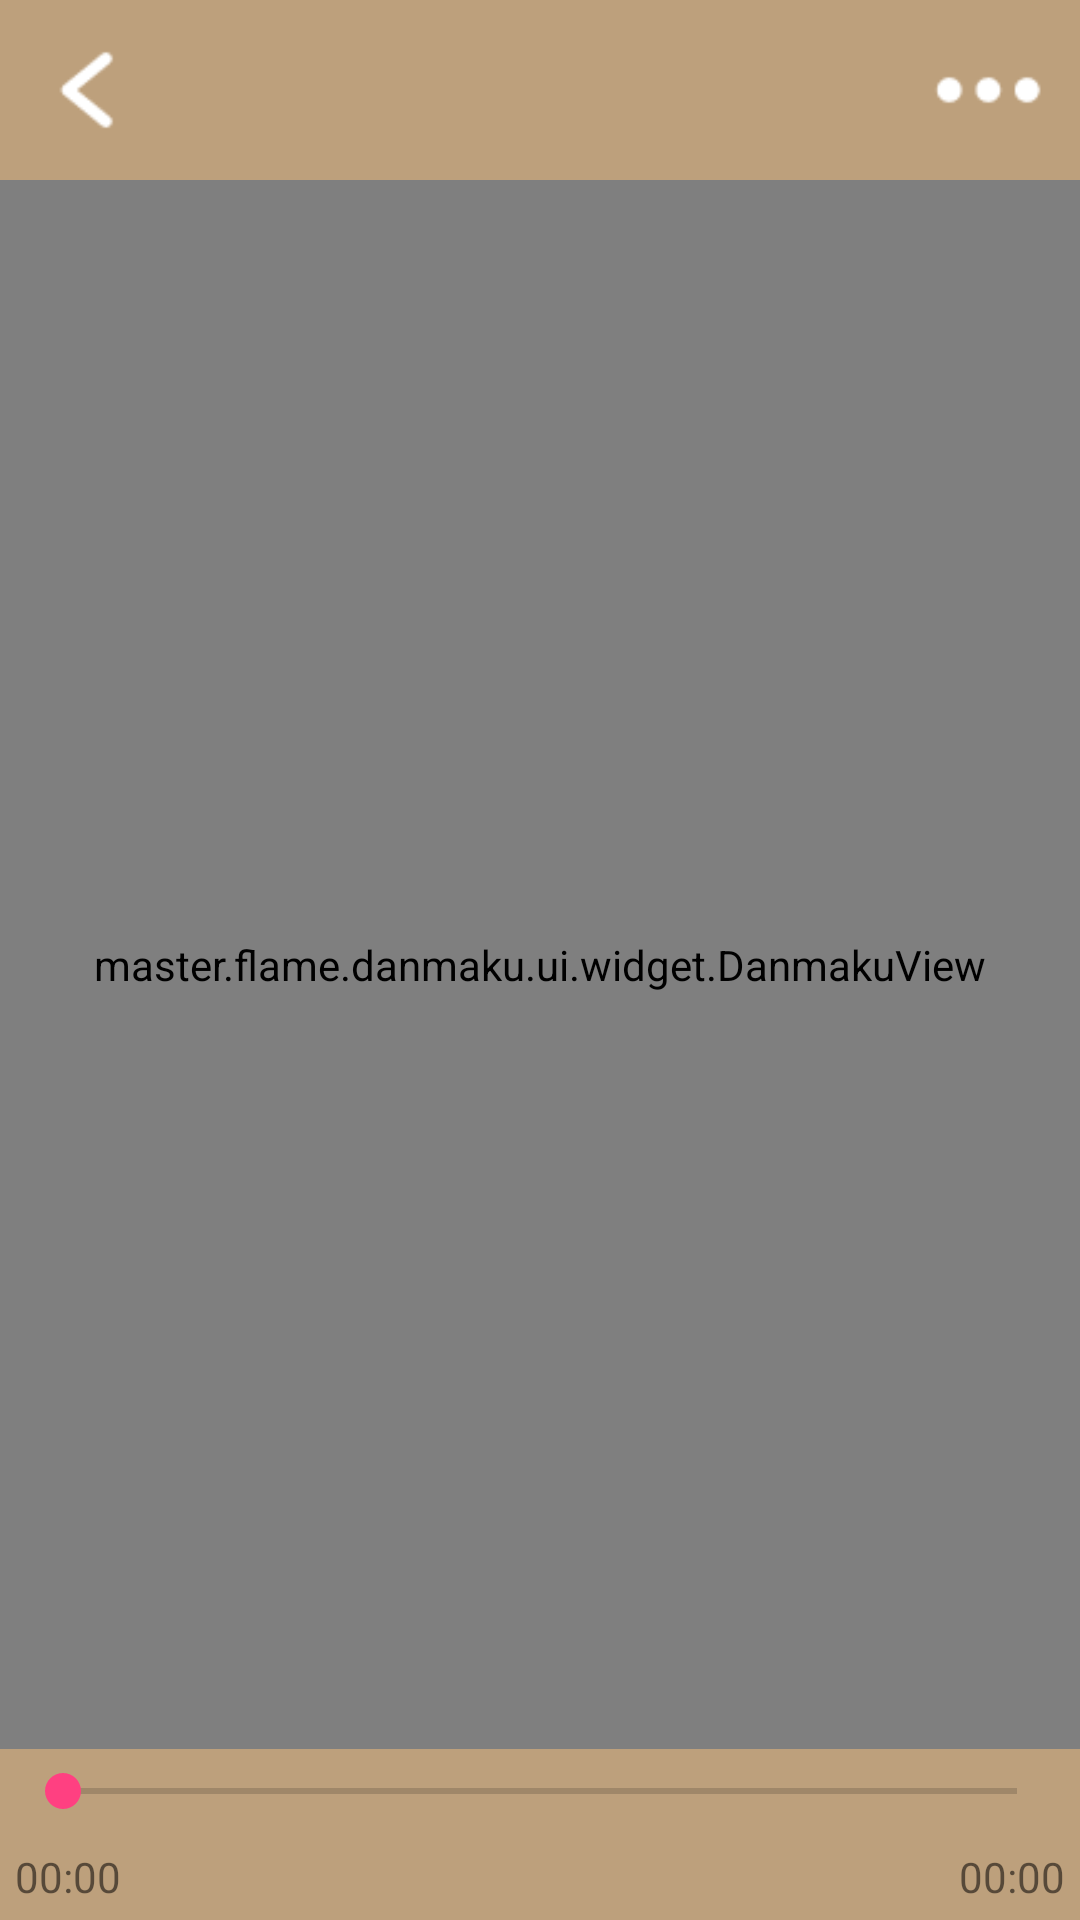

Where icons sit on this 1080×1920 app screen, as (x1, y1, x2, y2):
back: (60, 52, 113, 128)
more: (936, 77, 1041, 103)
